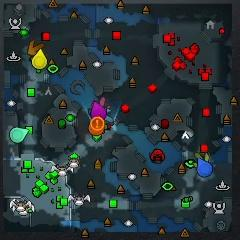Other: (91, 116, 104, 131)
p1: (196, 157, 213, 177)
p2: (10, 127, 30, 144)
p3: (91, 101, 106, 119)
p4: (32, 49, 47, 70)
p5: (89, 116, 104, 135)
x1: (94, 96, 109, 109)
x2: (192, 151, 209, 167)
x5: (28, 39, 44, 56)
